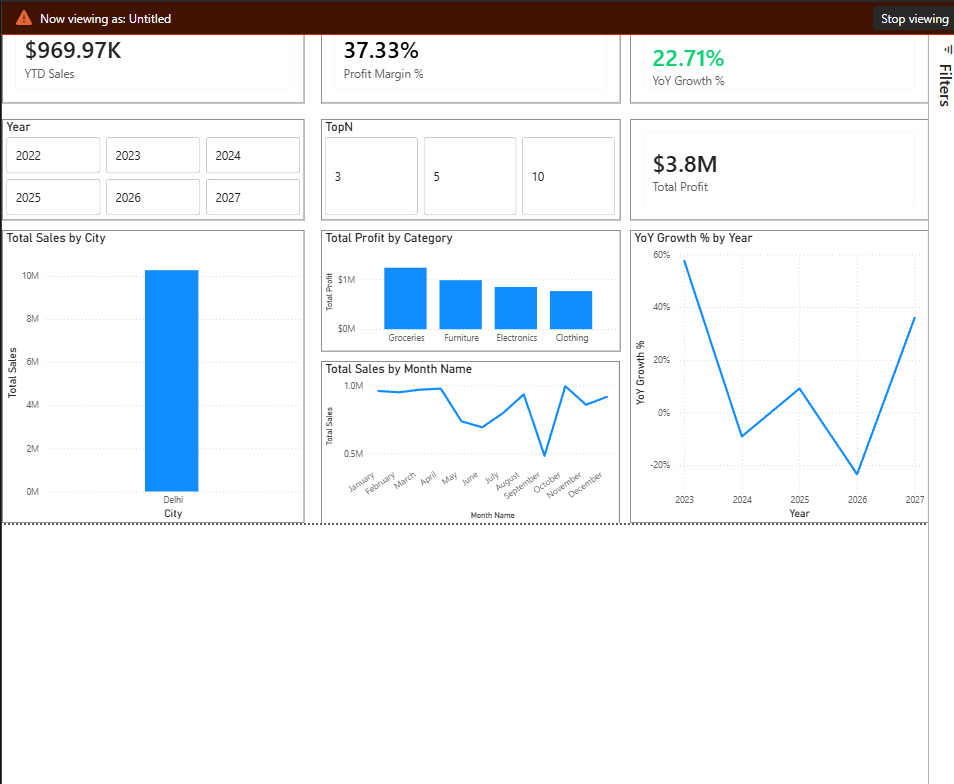

Layout of this report page (visuals, bound fields, positions):
{"tool":"powerbi","page":{"name":"Page 1","canvas":[1280,720],"ordinal":0},"visuals":[{"type":"cardVisual","fields":{"Data":["Dim_City.YTD Sales"]},"box":[0,11.3,418.2,128.6],"z":0},{"type":"lineChart","fields":{"Category":["Dim_Date.Month Name"],"Y":["Dim_City.Total Sales"]},"box":[440.8,495.9,412.5,224.6],"z":1000},{"type":"advancedSlicerVisual","fields":{"Values":["TopN_Table.TopN"]},"box":[440.8,161.1,414,139.9],"z":2000},{"type":"clusteredColumnChart","fields":{"Category":["Dim_City.City"],"Y":["Dim_City.Total Sales"]},"box":[0,315.1,418.2,405.5],"z":3000},{"type":"advancedSlicerVisual","fields":{"Values":["Dim_Date.Year"]},"box":[0,161.1,418.2,139.9],"z":4000},{"type":"cardVisual","title":"YoY Growth","fields":{"Data":["Dim_City.YoY Growth %"]},"box":[867.5,11.3,412.5,128.6],"z":5000},{"type":"cardVisual","fields":{"Data":["Dim_City.Profit Margin %"]},"box":[440.8,11.3,414,128.6],"z":6000},{"type":"lineChart","fields":{"Category":["Dim_Date.Year"],"Y":["Dim_City.YoY Growth %"]},"box":[867.5,315.1,412.5,405.5],"z":7000},{"type":"columnChart","fields":{"Category":["Fact_Sales.Category"],"Y":["Dim_City.Total Profit"]},"box":[440.8,315.1,414,168.1],"z":8000},{"type":"cardVisual","fields":{"Data":["Dim_City.Total Profit"]},"box":[867.5,161.1,412.5,139.9],"z":9000}]}

Visuals, with their boxes on the page's 1280x720 design canvas (x1, y1, x2, y2). These are canvas units, not pixel positions in the 954x784 screenshot, which may show the page scaled, cropped or inside an application window:
cardVisual - Dim_City.YTD Sales: 0,11,418,140
lineChart - Dim_Date.Month Name x Dim_City.Total Sales: 441,496,853,720
advancedSlicerVisual - TopN_Table.TopN: 441,161,855,301
clusteredColumnChart - Dim_City.City x Dim_City.Total Sales: 0,315,418,721
advancedSlicerVisual - Dim_Date.Year: 0,161,418,301
"YoY Growth" cardVisual: 868,11,1280,140
cardVisual - Dim_City.Profit Margin %: 441,11,855,140
lineChart - Dim_Date.Year x Dim_City.YoY Growth %: 868,315,1280,721
columnChart - Fact_Sales.Category x Dim_City.Total Profit: 441,315,855,483
cardVisual - Dim_City.Total Profit: 868,161,1280,301
